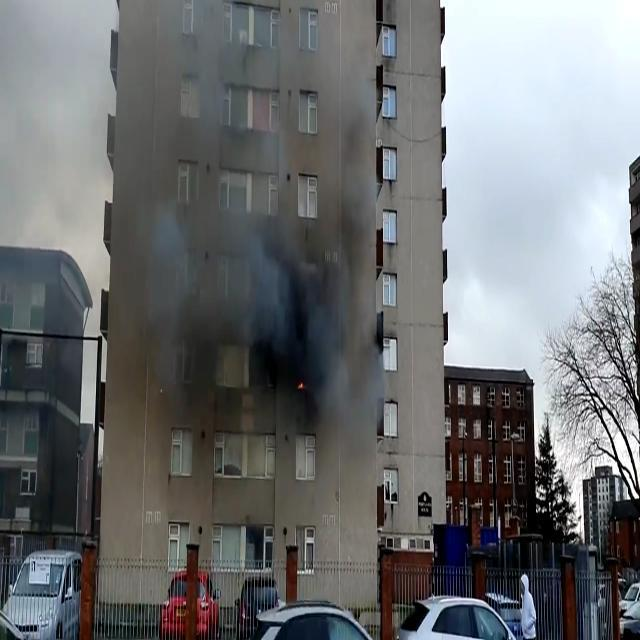Smoke: (154, 122, 386, 449), (0, 44, 99, 364)
